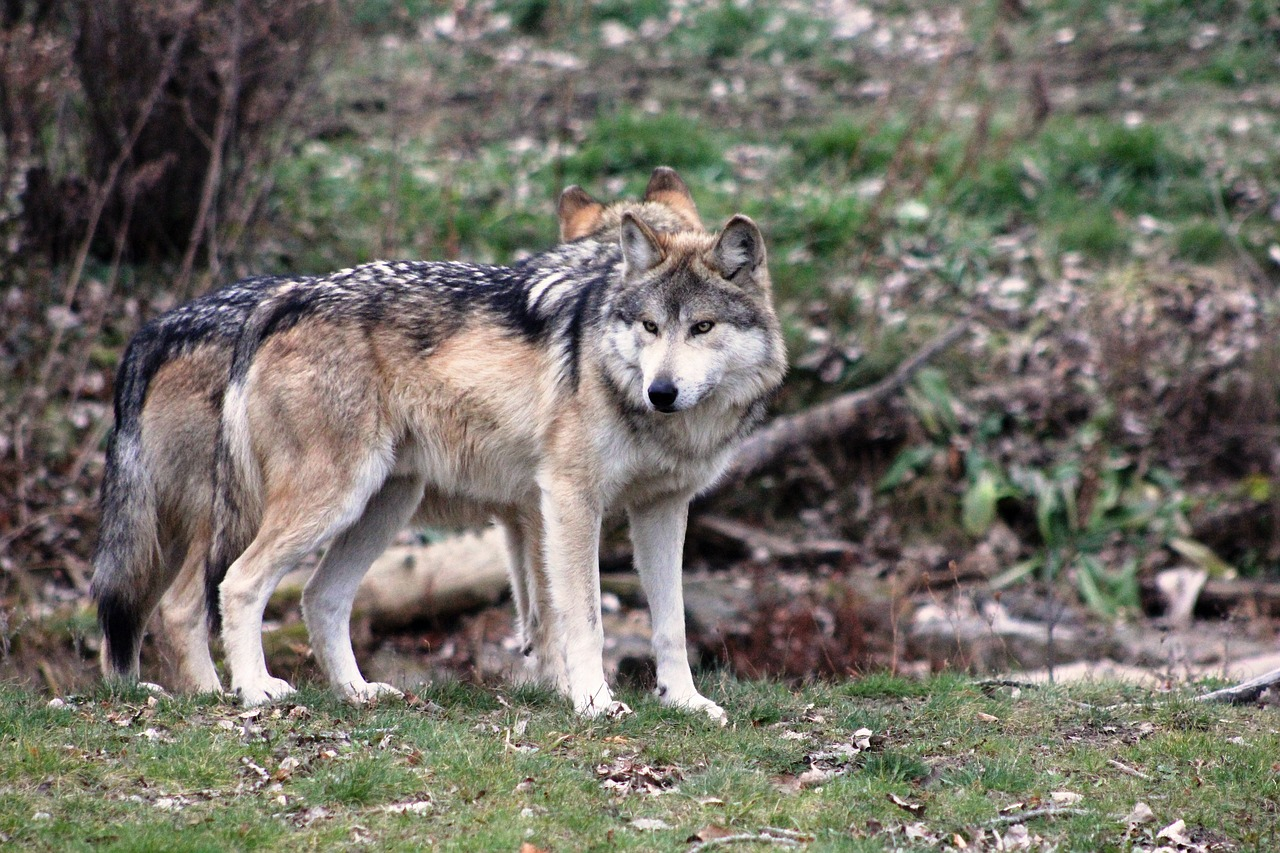Lobo: (206, 230, 859, 723)
